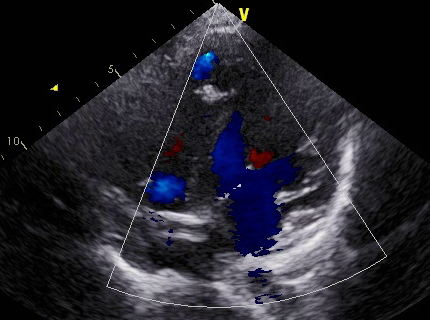MR: (213, 145, 302, 224)
